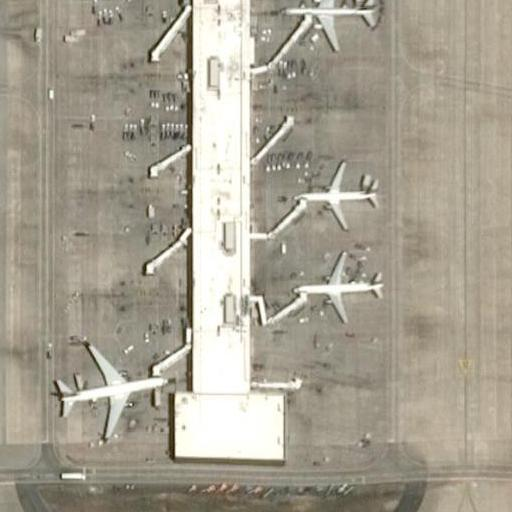Aircraft: (44, 338, 167, 431), (294, 154, 383, 236), (288, 249, 385, 324), (280, 0, 385, 54), (0, 187, 7, 293), (58, 0, 181, 4)
